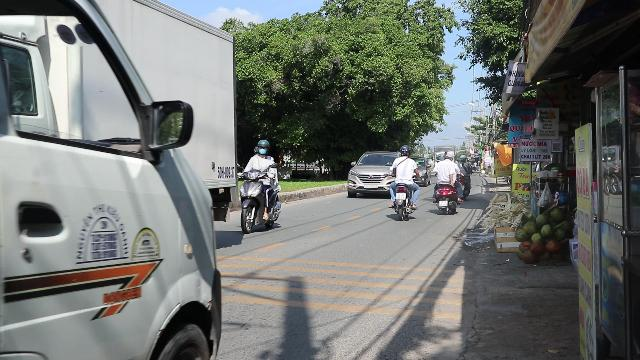helmet: (255, 139, 269, 155), (398, 144, 409, 156)
motorcyclist: (237, 139, 283, 235), (388, 144, 420, 219)
